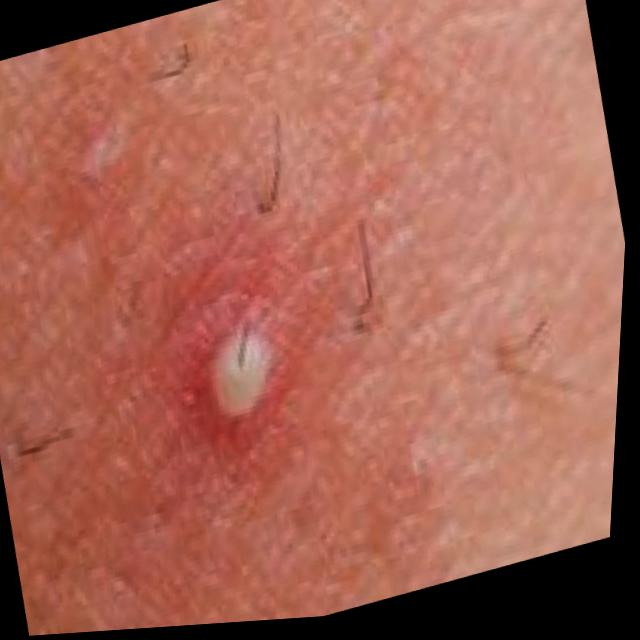pustule: (185, 246, 340, 516)
